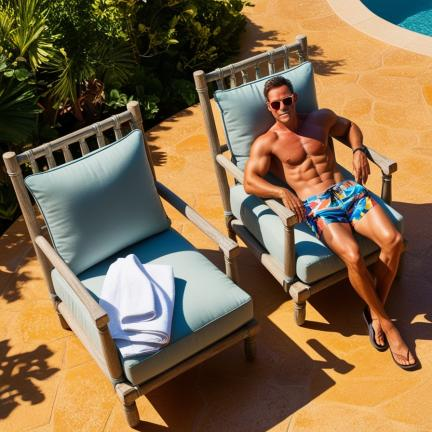guest on chair: (194, 35, 414, 368)
occupied chair: (3, 102, 253, 426)
